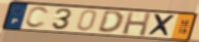0: (75, 9, 99, 33)
3: (50, 8, 74, 31)
C: (23, 6, 51, 30)
D: (96, 10, 125, 35)
H: (121, 11, 153, 38)
X: (146, 13, 177, 38)
